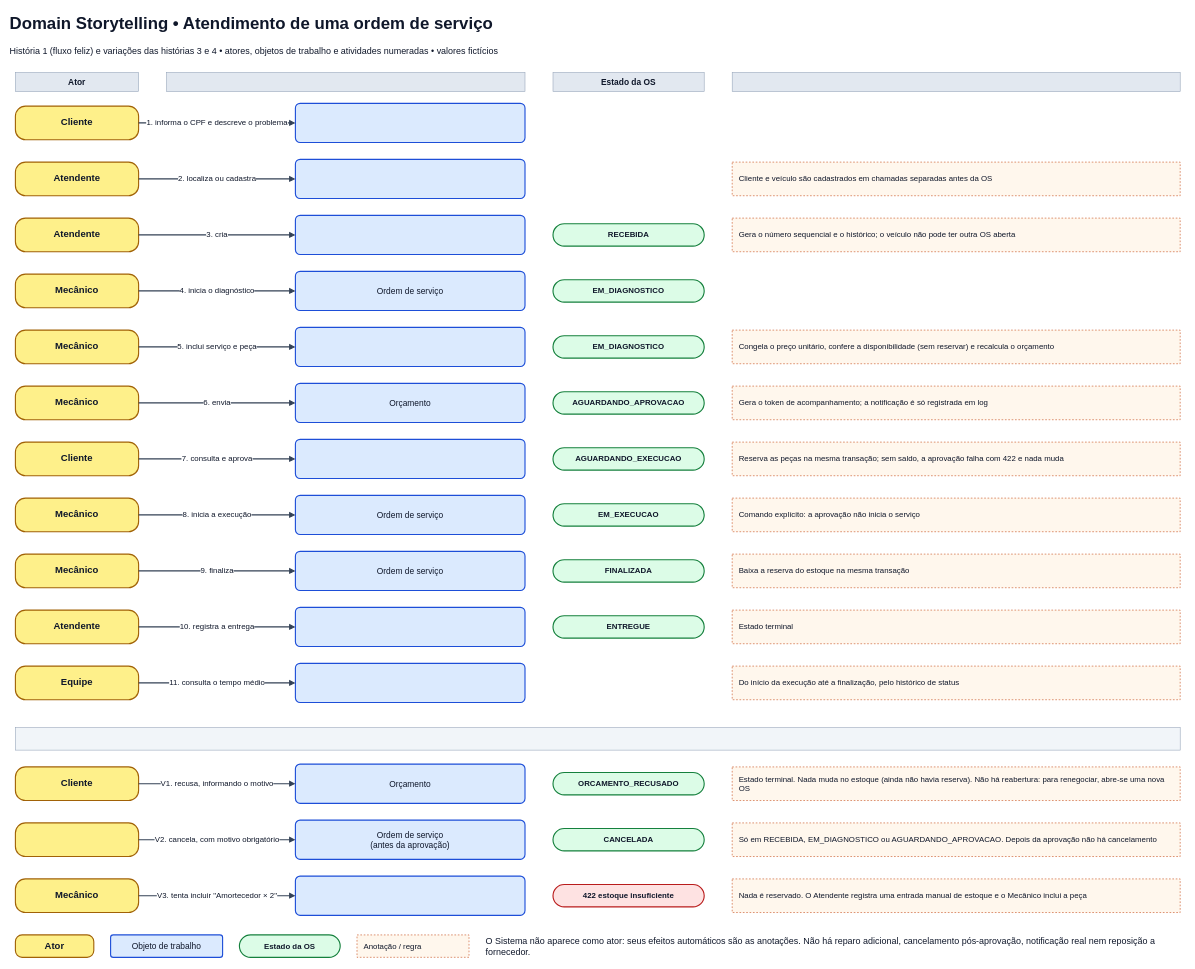
The diagram is 1195 pixels wide and 969 high, and some of its shapes have lost their labels. The centre of each missing label's shape, as x and y in pixels:
Admin: point 77,839
Atividade → objeto de trabalho: point 345,82
Cliente e Veículo (documento e placa): point 410,178
CPF + descrição do problema ("barulho ao frear"): point 410,122
Efeitos do Sistema e regras (anotações): point 956,82
Item de estoque (0 disponível): point 410,895
Ordem de serviço (cliente, veículo, mecânico): point 410,234
Orçamento (token da OS ou login de Cliente): point 410,458
Serviço "Troca de pastilhas" + Peça "Pastilha × 2": point 410,346
Tempo médio de execução: point 410,682
Variações: point 597,738
Veículo entregue: point 410,626
